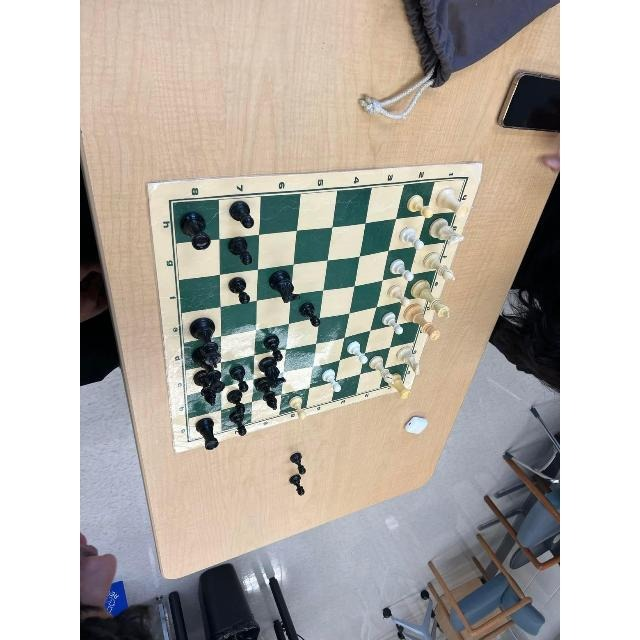black-bishop: (192, 367, 222, 408), (254, 376, 280, 412)
black-king: (188, 315, 224, 369)
black-knight: (268, 270, 301, 304), (258, 356, 286, 390)
black-pawn: (226, 236, 255, 268), (227, 275, 257, 304), (229, 199, 256, 231), (229, 362, 251, 393), (298, 301, 323, 328), (262, 335, 286, 363), (225, 388, 248, 415), (227, 411, 250, 437)
black-queen: (190, 344, 227, 394)
black-rook: (179, 212, 215, 252), (194, 415, 223, 452)
white-bishop: (422, 250, 457, 283), (368, 355, 395, 387)
white-king: (410, 277, 452, 321)
white-knight: (429, 217, 465, 247), (393, 344, 424, 378)
white-pawn: (397, 224, 429, 253), (406, 192, 435, 221), (388, 256, 415, 283), (386, 283, 412, 309), (320, 368, 344, 393), (346, 339, 370, 364), (380, 312, 405, 336), (287, 395, 308, 421)
white-queen: (402, 302, 444, 343)
white-rook: (436, 185, 470, 218), (385, 373, 413, 401)
